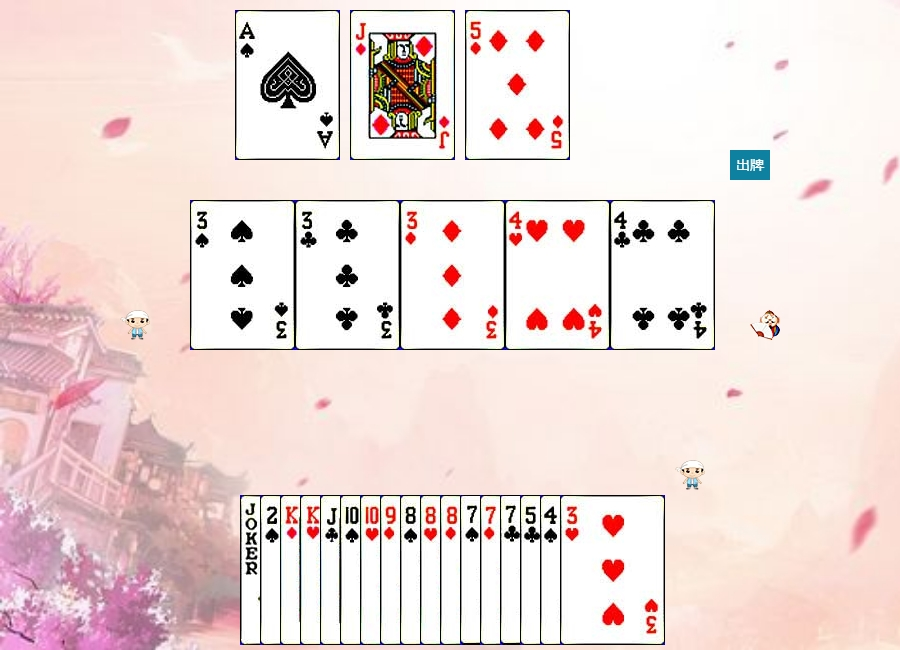10~3: (360, 495, 465, 645)
10~4: (340, 495, 445, 645)
11~1: (350, 10, 455, 160)
11~2: (320, 495, 425, 645)
13~1: (280, 495, 385, 645)
13~3: (300, 495, 405, 645)
14~4: (235, 10, 340, 160)
15~4: (260, 495, 365, 645)
17~3: (240, 495, 345, 645)
3~1: (400, 200, 505, 350)
3~2: (295, 200, 400, 350)
3~3: (560, 495, 665, 645)
3~4: (190, 200, 295, 350)
4~2: (610, 200, 715, 350)
4~3: (505, 200, 610, 350)
4~4: (540, 495, 645, 645)
5~1: (465, 10, 570, 160)
5~2: (520, 495, 625, 645)
7~1: (480, 495, 585, 645)
7~2: (500, 495, 605, 645)
7~4: (460, 495, 565, 645)
8~1: (440, 495, 545, 645)
8~3: (420, 495, 525, 645)
8~4: (400, 495, 505, 645)
9~1: (380, 495, 485, 645)
